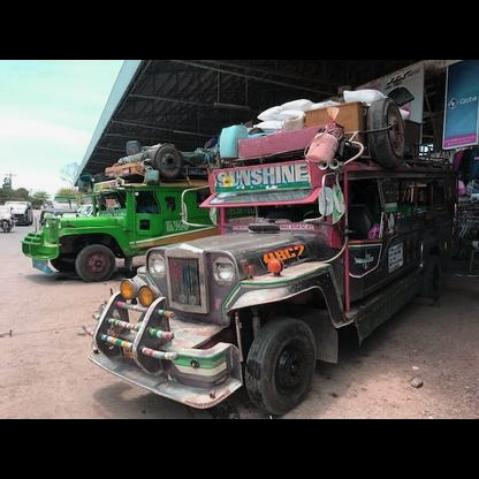jeepney: (85, 118, 457, 417), (11, 158, 242, 287)
